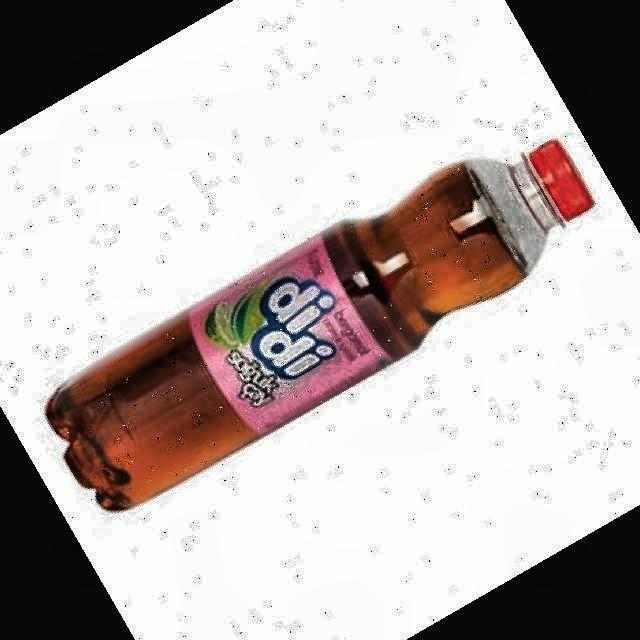plastic: (46, 140, 594, 511)
